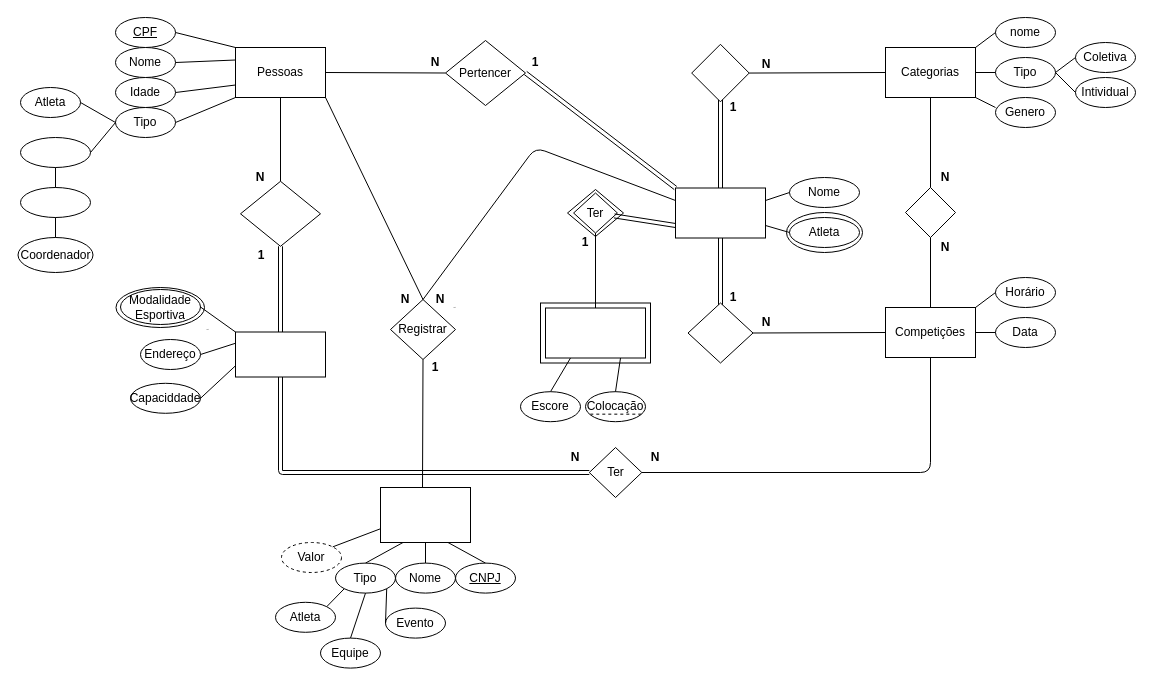
Image size: 1153x686. Some labels were removed from this diagram. Here are the shapes that lost their labels. From the top down, the centre of each, then its label:
At pixel 720 72: "Inscrever".
At pixel 55 152: "Funcionario".
At pixel 55 202: "Árbitro".
At pixel 280 213: "Responsavel".
At pixel 720 212: "Equipes Participantes".
At pixel 930 212: "Fase".
At pixel 595 332: "Resultado das Competições".
At pixel 720 332: "Participar".
At pixel 280 354: "Locais".
At pixel 425 514: "Empresas Patrocinadoras".
